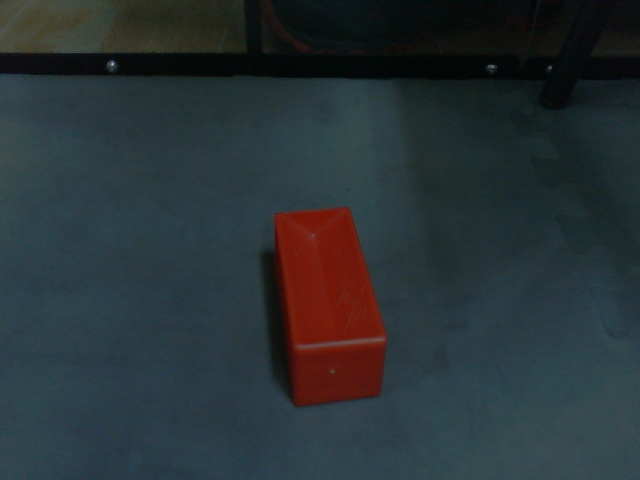RedSample: (271, 204, 391, 410)
